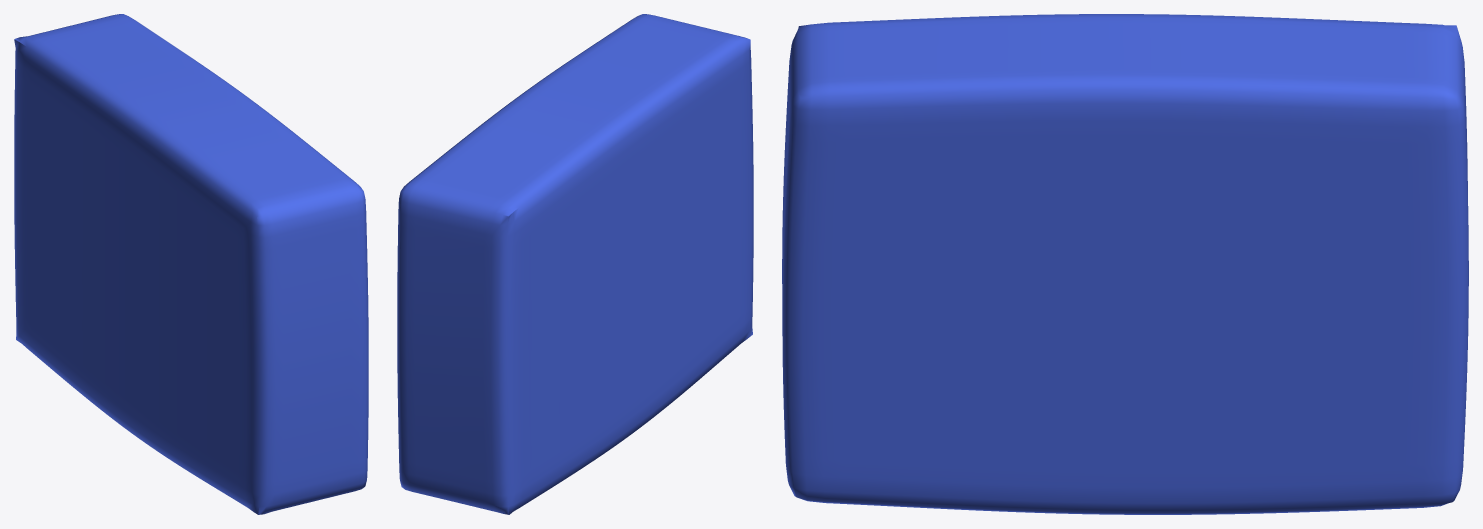
The picture shows the model from 3 angles, left to right: view 1: azimuth 30°, elevation 25°; view 2: azimuth 150°, elevation 25°; view 3: azimuth 270°, elevation 25°; orthographic projection. The views are drawn at different scales.
Visible parts, largest first — view 1: PYTEL_bezpecnost_0; view 2: PYTEL_bezpecnost_0; view 3: PYTEL_bezpecnost_0.
Part boxes in pixels (<box>): PYTEL_bezpecnost_0: <box>14,14,368,514</box>; PYTEL_bezpecnost_0: <box>397,14,753,514</box>; PYTEL_bezpecnost_0: <box>782,14,1468,514</box>.
Size of the model in its own units: 0.2685 by 0.7011 by 1.
